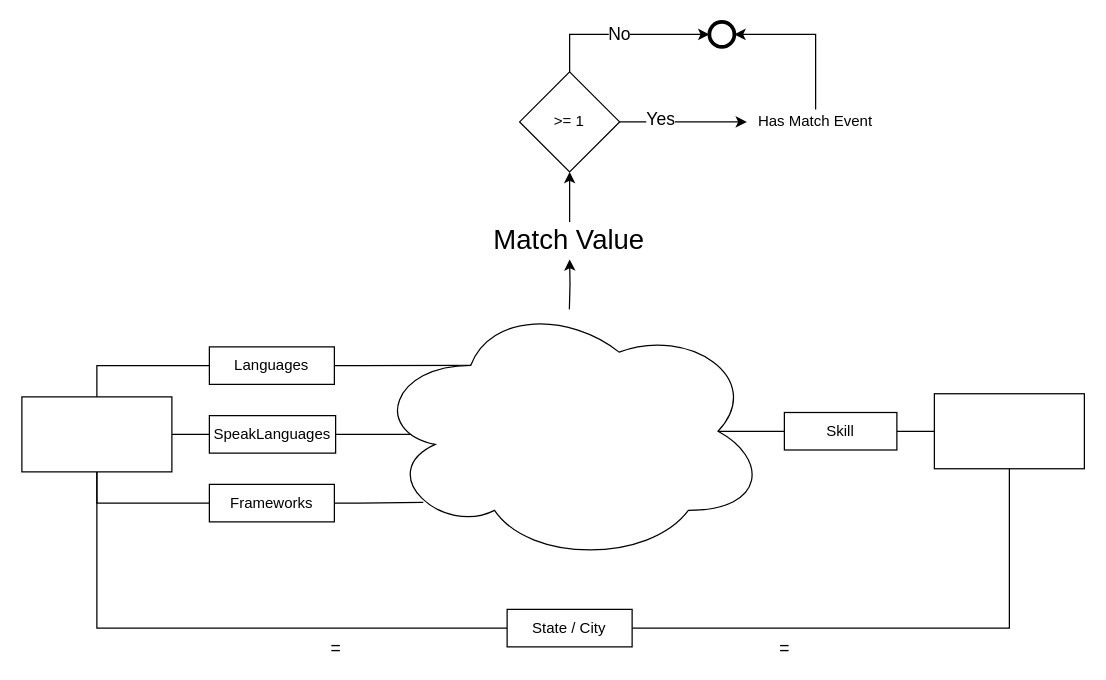
This 1106x680 diagram has some shape labels left out. The shapes that lost their labels are listed below. From the top down, each one's box as (x1, y1, x2, y2) in pixels, then its label:
(21, 396, 172, 472): Opening
(371, 298, 768, 563): Intersection Languages x1 SpeakLanguages x0.3 Frameworks x1
(933, 392, 1084, 469): Talent
